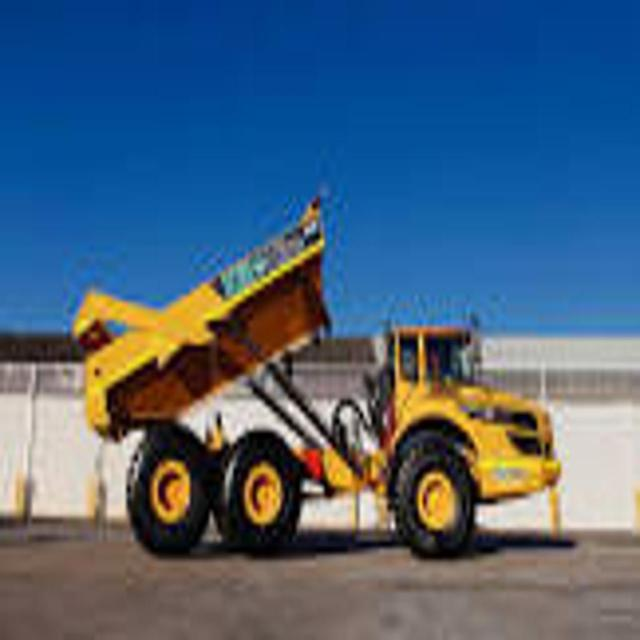dump_truck: (70, 176, 562, 580)
